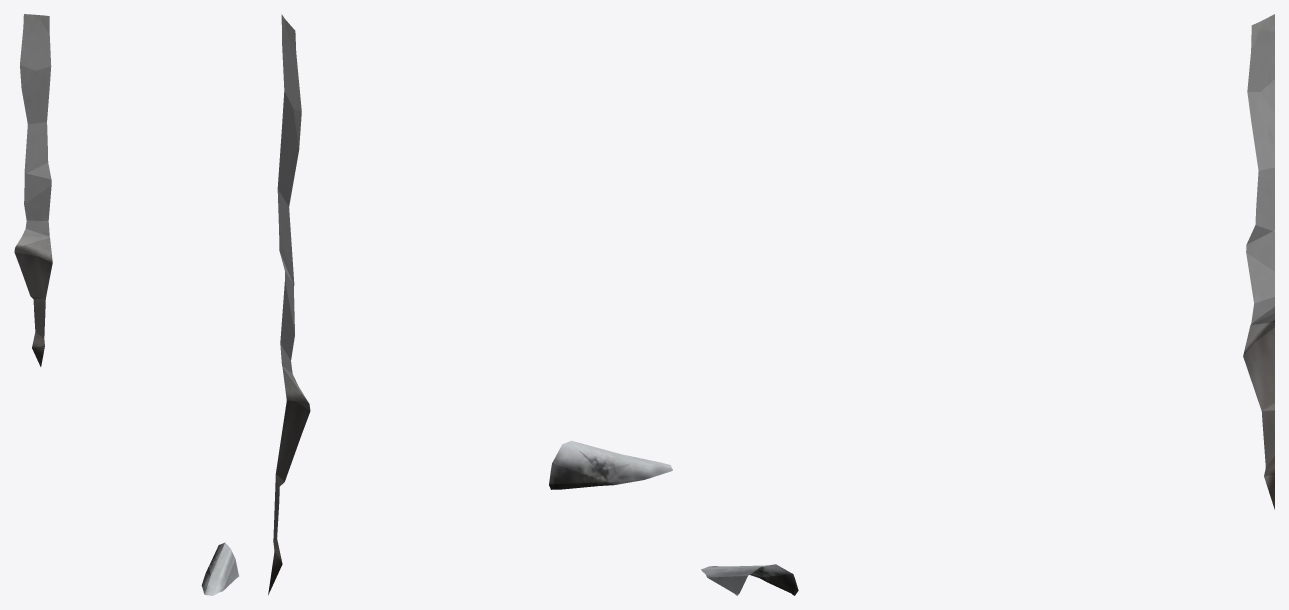
The picture shows the model from 3 angles, left to right: view 1: azimuth 30°, elevation 25°; view 2: azimuth 150°, elevation 25°; view 3: azimuth 270°, elevation 25°; orthographic projection. The views are drawn at different scales.
Size of the model in its own units: 0.0934 by 0.8374 by 0.7631.
1 material, 1 textured.
